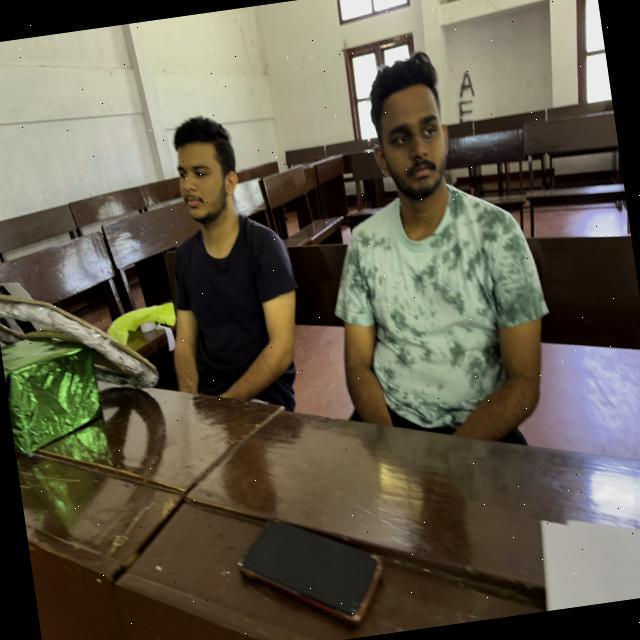no-seatbelt: (322, 183, 573, 492), (140, 213, 316, 438)
